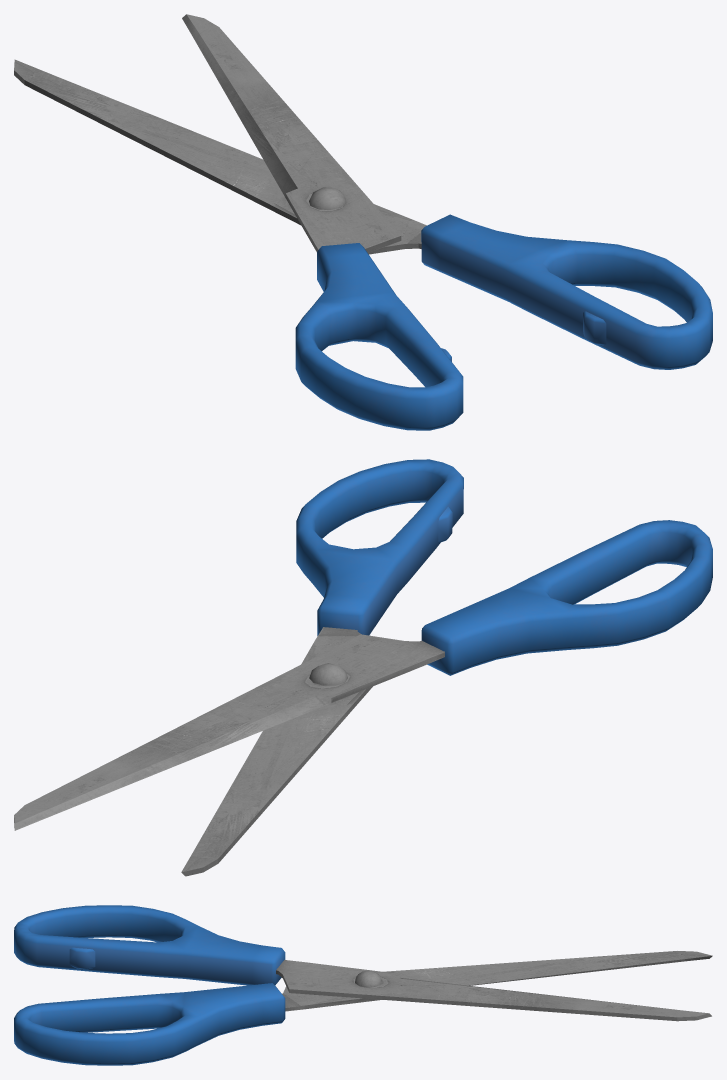
Rendered from stylizedproportions-scissors.glb.
3 views of the same model, one above another, from view 1: azimuth 30°, elevation 25°; view 2: azimuth 150°, elevation 25°; view 3: azimuth 270°, elevation 25° (orthographic). The views are drawn at different scales.
Visible parts, largest first — view 1: scissor_L_1, scissor_R_2, rivet_0; view 2: scissor_R_2, scissor_L_1, rivet_0; view 3: scissor_R_2, scissor_L_1, rivet_0.
Part boxes in pixels (box(x1,y1,x2,y2)): scissor_L_1: box(14, 59, 712, 369); scissor_R_2: box(182, 14, 463, 430); rivet_0: box(309, 187, 346, 209); scissor_R_2: box(14, 520, 712, 830); scissor_L_1: box(181, 459, 463, 876); rivet_0: box(309, 663, 347, 685); scissor_R_2: box(14, 905, 711, 1021); scissor_L_1: box(14, 951, 712, 1065); rivet_0: box(355, 970, 381, 987).
Size of the model in its own units: 0.0756 by 0.00774 by 0.1649.
1 material, 1 textured.
